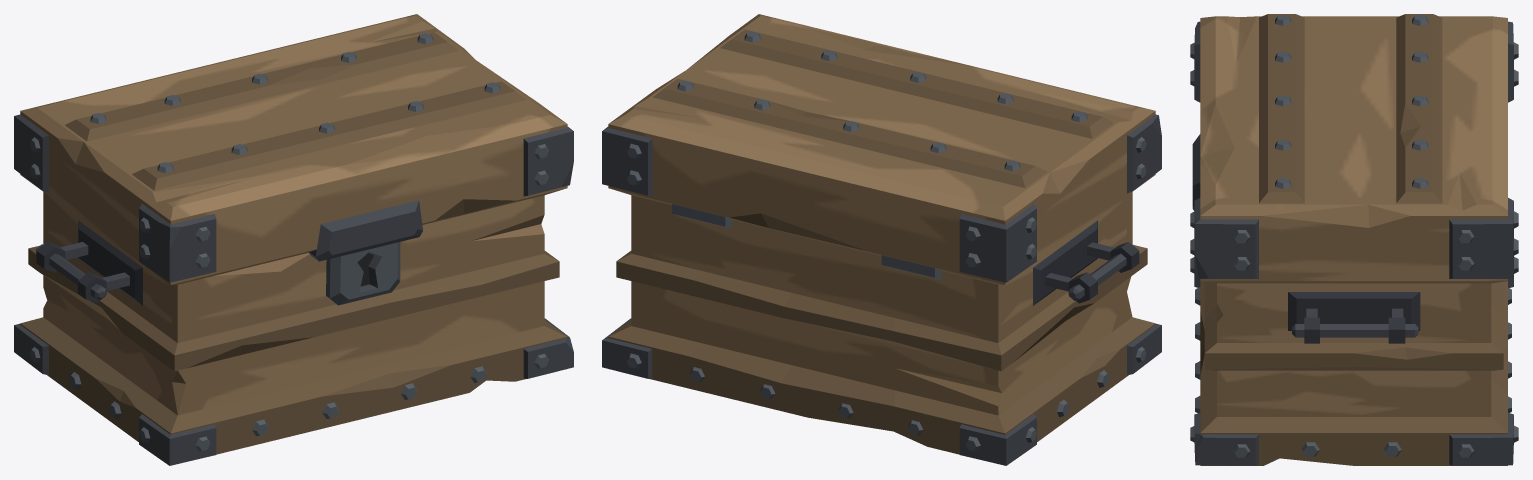
The model's file is SM_Prop_Crate_03.fbx.
3 renders of one model, left to right at view 1: azimuth 30°, elevation 25°; view 2: azimuth 150°, elevation 25°; view 3: azimuth 270°, elevation 25°, orthographic. The views are drawn at different scales.
Visible parts, largest first — view 1: SM_Prop_Crate_03_Lid, SM_Prop_Crate_03; view 2: SM_Prop_Crate_03_Lid, SM_Prop_Crate_03; view 3: SM_Prop_Crate_03_Lid, SM_Prop_Crate_03.
Boxes of the visible parts, x1,y1,x2,y2 form: SM_Prop_Crate_03_Lid: (14, 14, 573, 284); SM_Prop_Crate_03: (14, 192, 573, 465); SM_Prop_Crate_03_Lid: (602, 14, 1161, 284); SM_Prop_Crate_03: (602, 192, 1161, 465); SM_Prop_Crate_03_Lid: (1190, 14, 1518, 283); SM_Prop_Crate_03: (1190, 257, 1518, 465).
Size of the model in its own units: 97.06 by 52.31 by 57.97.
